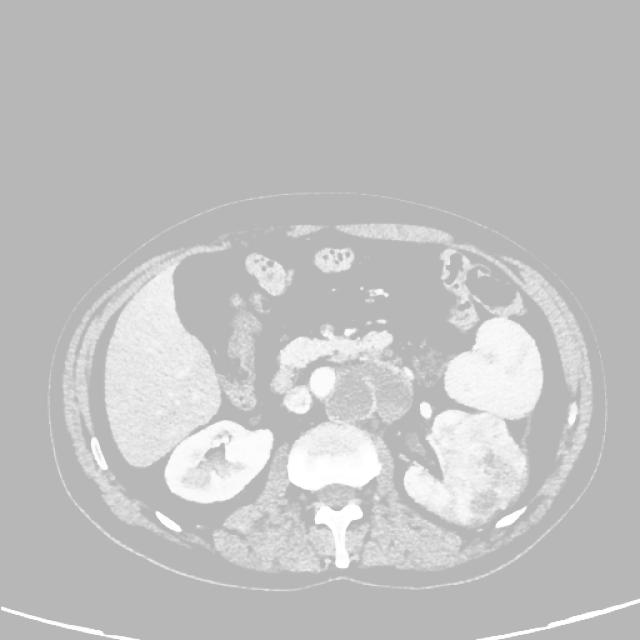TUMOR: (111, 232, 559, 541)
